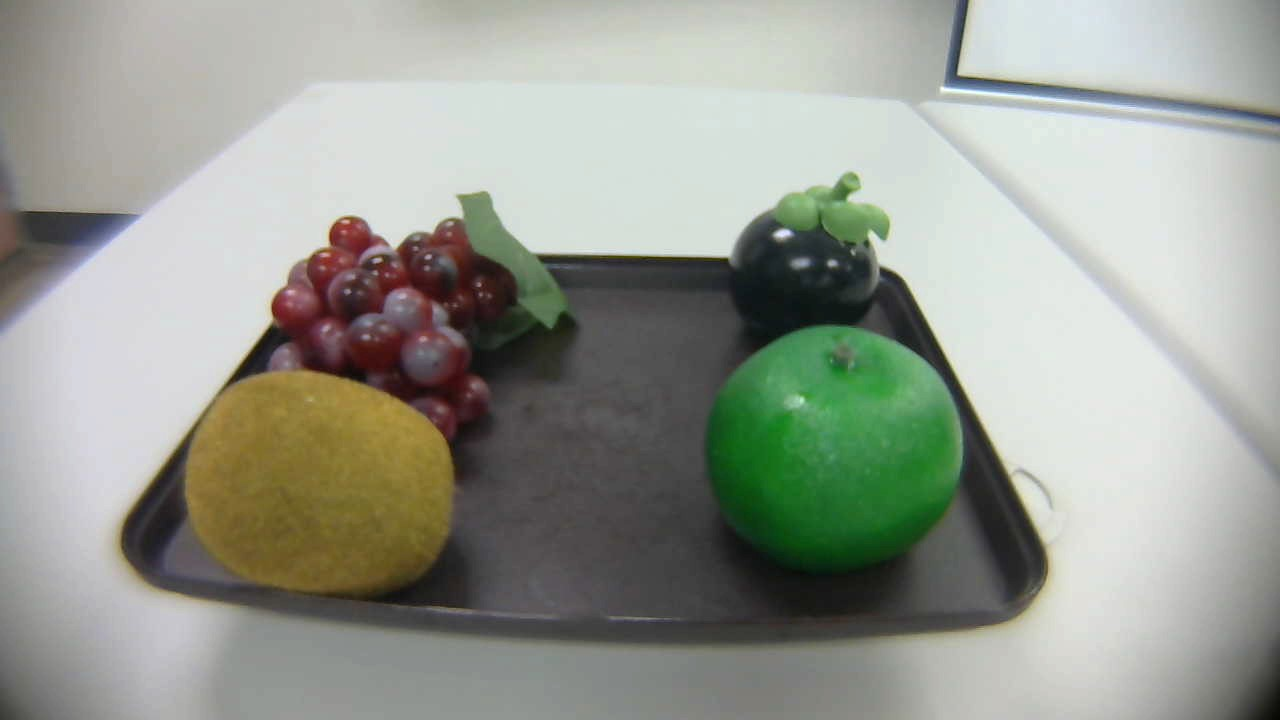grape: (243, 179, 577, 458)
green orange: (695, 319, 982, 599)
kiwi fruit: (180, 374, 460, 603)
mangosteen: (725, 163, 897, 340)
